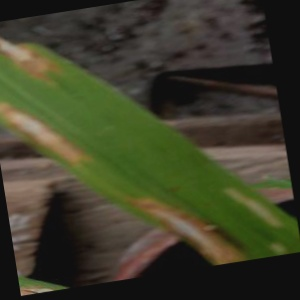Brown_Spot: (131, 180, 244, 266), (0, 87, 93, 182), (0, 8, 66, 85)
